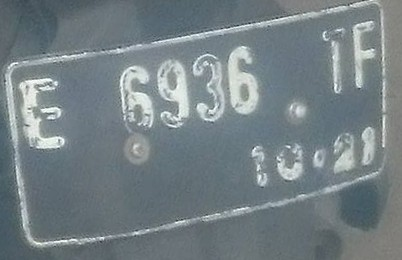plate: (5, 1, 402, 244)
